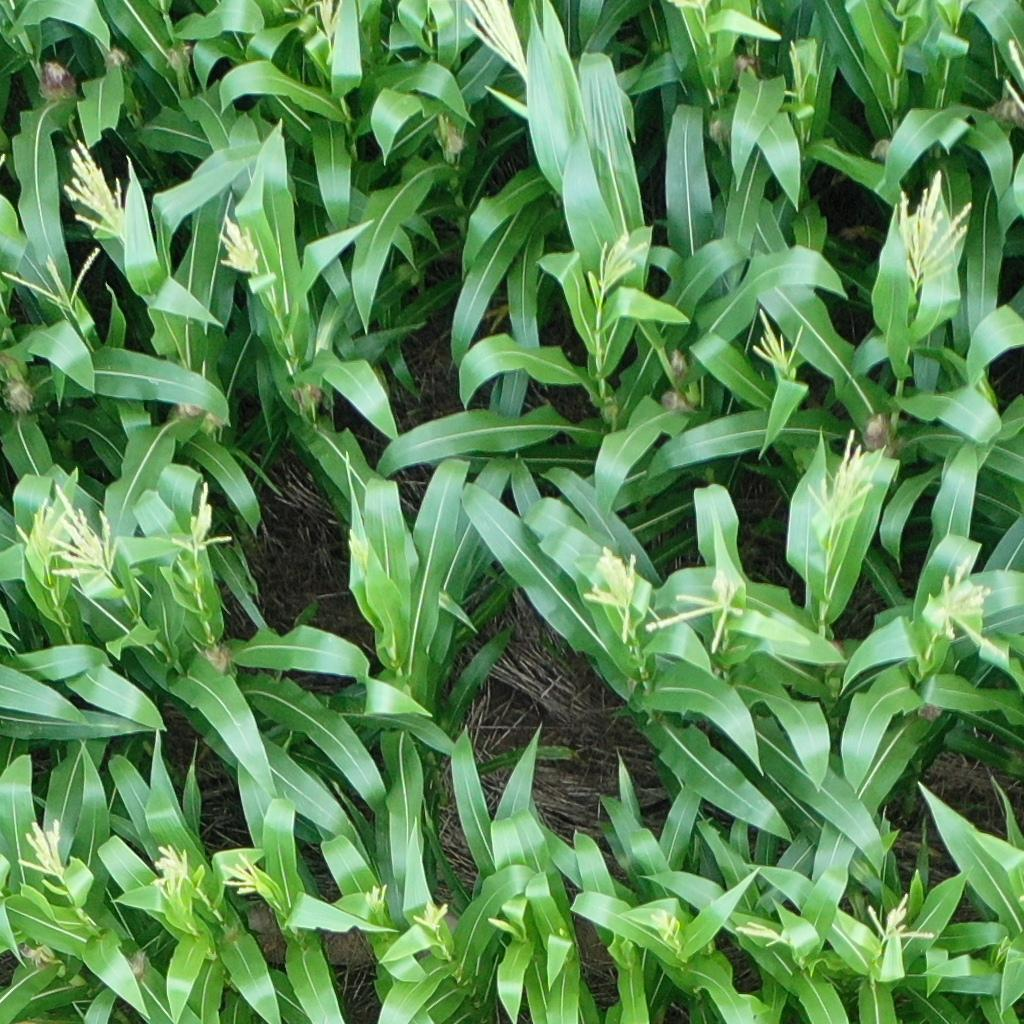Tassel: (11, 479, 125, 586), (890, 169, 976, 287), (647, 558, 750, 654), (799, 424, 879, 528), (61, 139, 132, 239), (925, 559, 1001, 648), (1, 249, 106, 311), (579, 544, 643, 643), (456, 1, 532, 78), (168, 479, 233, 554), (863, 891, 941, 950), (749, 302, 803, 375), (212, 211, 267, 279), (17, 817, 70, 881), (591, 233, 648, 289), (150, 843, 194, 903), (781, 36, 817, 100), (736, 917, 790, 955), (223, 854, 263, 897), (410, 903, 450, 936), (313, 1, 345, 38), (343, 527, 373, 565), (647, 912, 678, 938), (364, 885, 389, 915)
